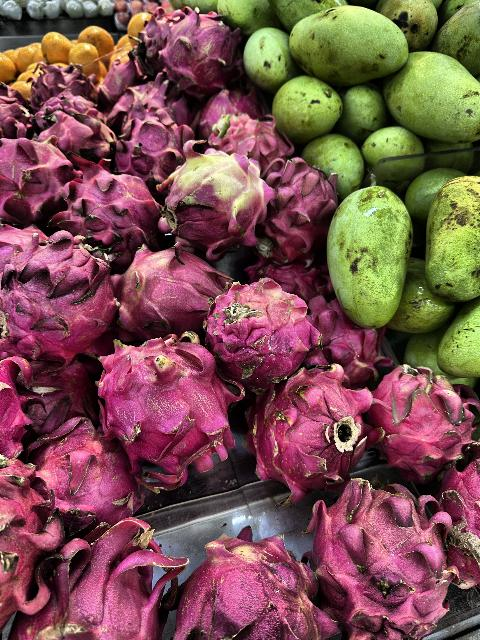buah-naga-belum-matang: (157, 143, 273, 253)
buah-naga-matang: (299, 470, 455, 640), (85, 332, 248, 472), (30, 520, 180, 640), (170, 530, 329, 640), (249, 364, 375, 488), (364, 356, 480, 486), (2, 234, 118, 350), (31, 422, 141, 524), (49, 156, 163, 254), (205, 281, 321, 373), (1, 452, 60, 618), (111, 246, 223, 330), (250, 158, 336, 255), (0, 136, 80, 224), (304, 296, 384, 379), (158, 13, 240, 93), (110, 105, 192, 177), (438, 453, 480, 591), (19, 364, 101, 428), (20, 60, 108, 106), (212, 116, 294, 164), (38, 114, 118, 158), (0, 352, 32, 462), (194, 84, 264, 134), (104, 52, 145, 100), (1, 222, 48, 258), (0, 100, 38, 136)
